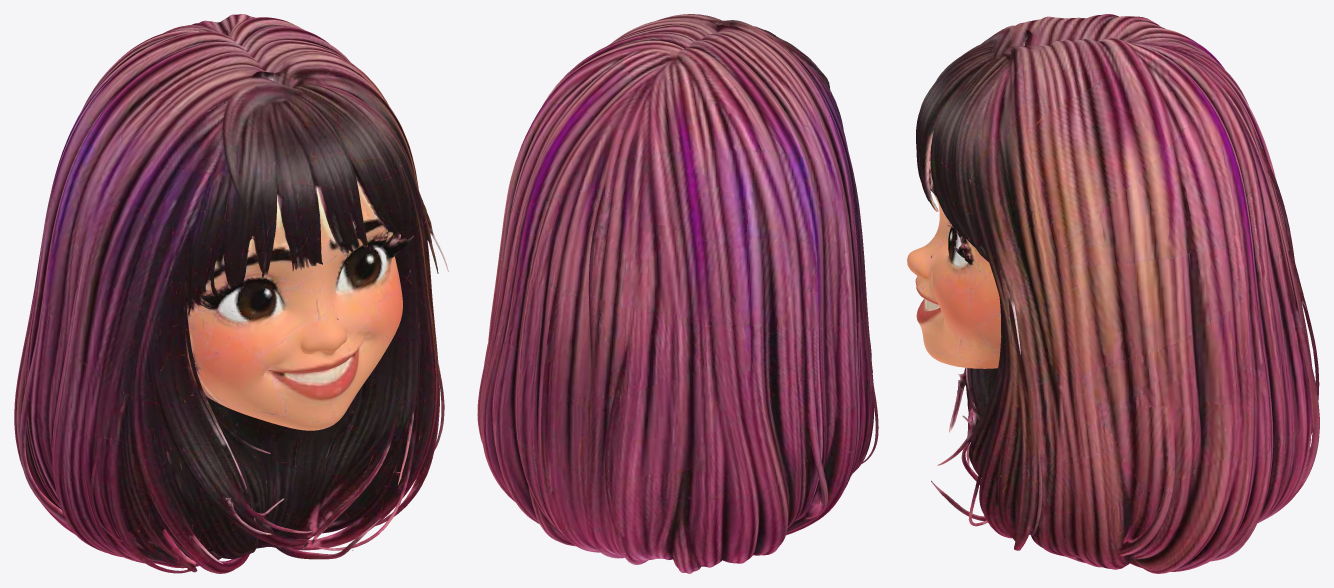
Rendered from planet-05.opt.glb.
3 views of the same model, side by side, from view 1: azimuth 30°, elevation 25°; view 2: azimuth 150°, elevation 25°; view 3: azimuth 270°, elevation 25° (orthographic). The views are drawn at different scales.
Bounding box in the file's own units: 1.39 × 1.9 × 1.41.
Materials: 1 (1 with a texture image).
